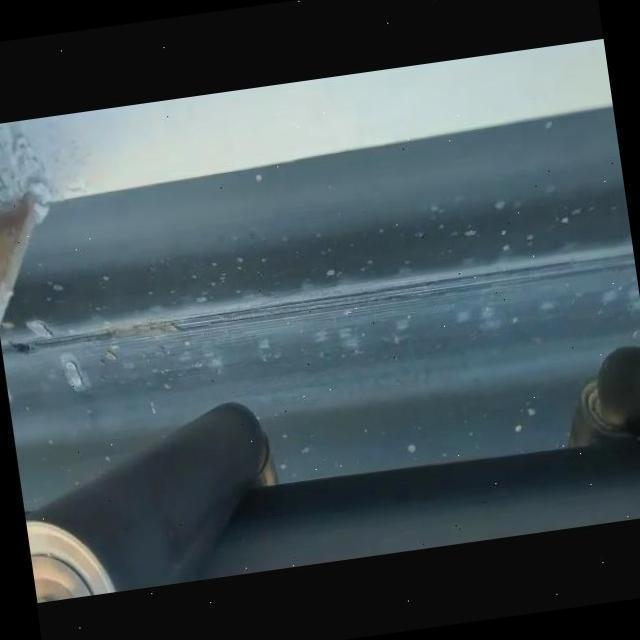Wear: (0, 245, 640, 363)
